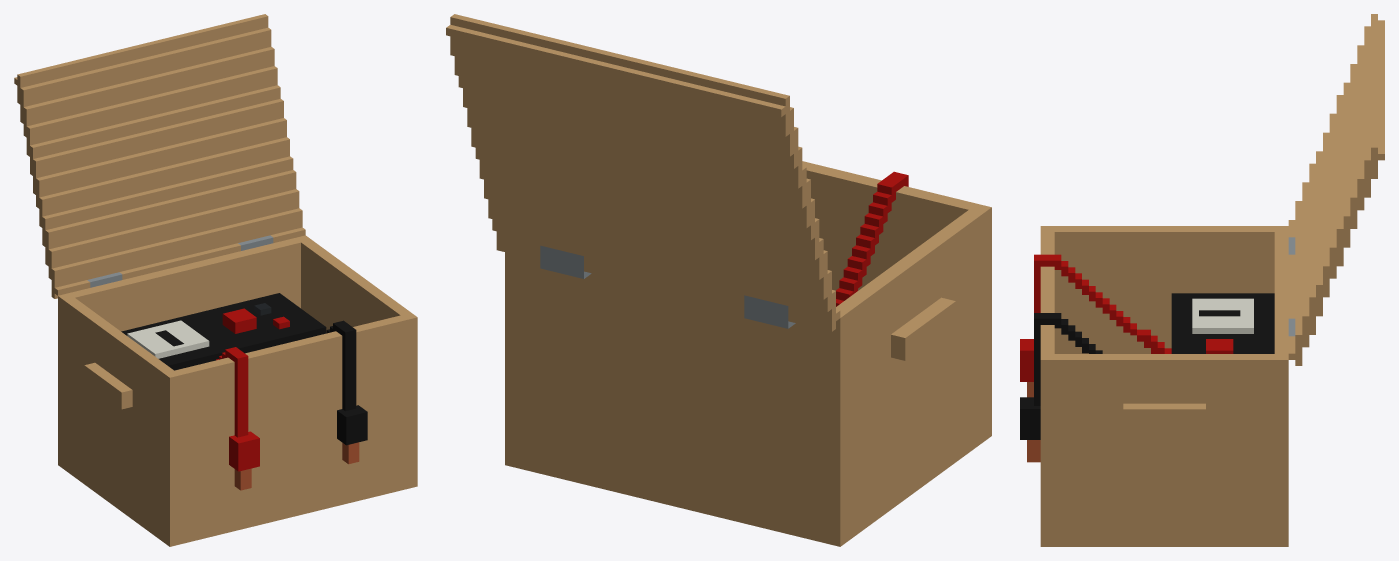
File: box_battery_charger.glb
3 views of the same model, side by side, from view 1: azimuth 30°, elevation 25°; view 2: azimuth 150°, elevation 25°; view 3: azimuth 270°, elevation 25° (orthographic). The views are drawn at different scales.
Visible parts, largest first — view 1: box_battery_charger:compound; view 2: box_battery_charger:compound; view 3: box_battery_charger:compound.
Boxes of the visible parts, x1,y1,x2,y2 form: box_battery_charger:compound: (14, 14, 417, 546); box_battery_charger:compound: (446, 14, 991, 546); box_battery_charger:compound: (1020, 14, 1384, 546).
Size of the model in its own units: 0.5 by 0.64 by 0.53.
